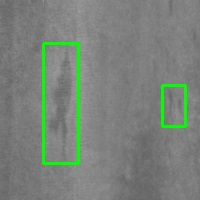inclusion: (43, 43, 78, 163), (162, 85, 185, 126)
